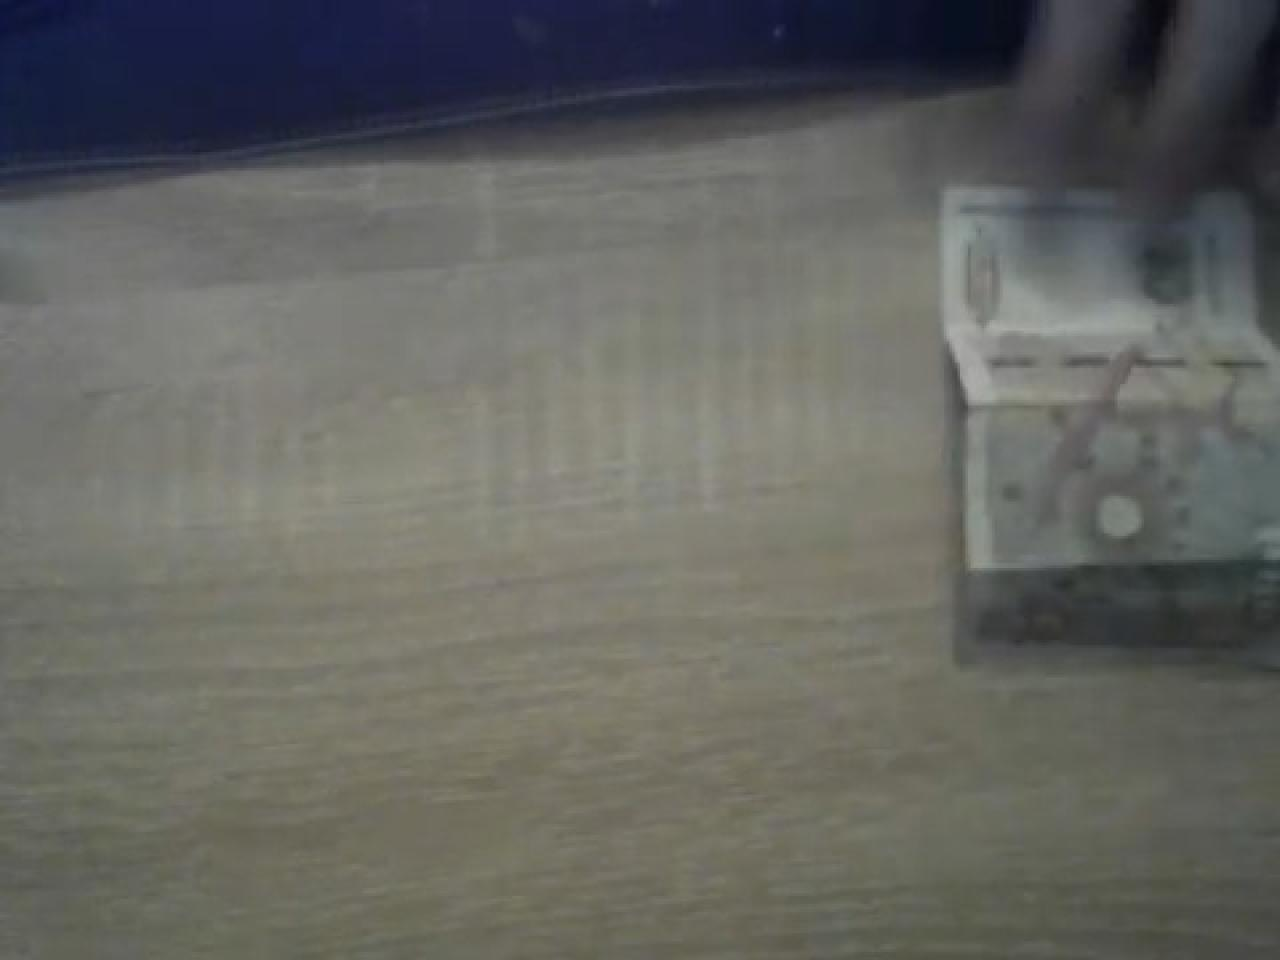10leva: (936, 184, 1280, 672)
